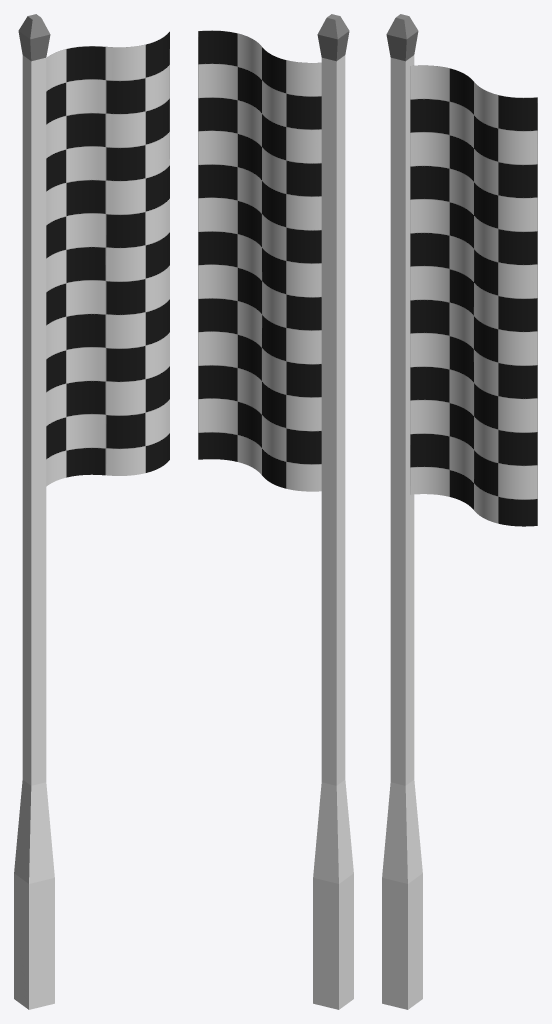
File: bandeira_chegada.glb
3 views of the same model, side by side, from view 1: azimuth 30°, elevation 25°; view 2: azimuth 150°, elevation 25°; view 3: azimuth 330°, elevation 25° (orthographic).
Visible parts, largest first — view 1: flagCheckers(Clone), Group; view 2: flagCheckers(Clone), Group; view 3: flagCheckers(Clone), Group.
Part boxes in pixels (left/top/right/bottom): flagCheckers(Clone): left=46, top=31, right=169, bottom=486; Group: left=14, top=14, right=54, bottom=1009; flagCheckers(Clone): left=198, top=30, right=321, bottom=491; Group: left=313, top=14, right=353, bottom=1009; flagCheckers(Clone): left=410, top=65, right=537, bottom=526; Group: left=382, top=14, right=422, bottom=1009.
Bounding box in the file's own units: 0.1972 × 1.25 × 0.0352.
Materials: 4 (1 with a texture image).
